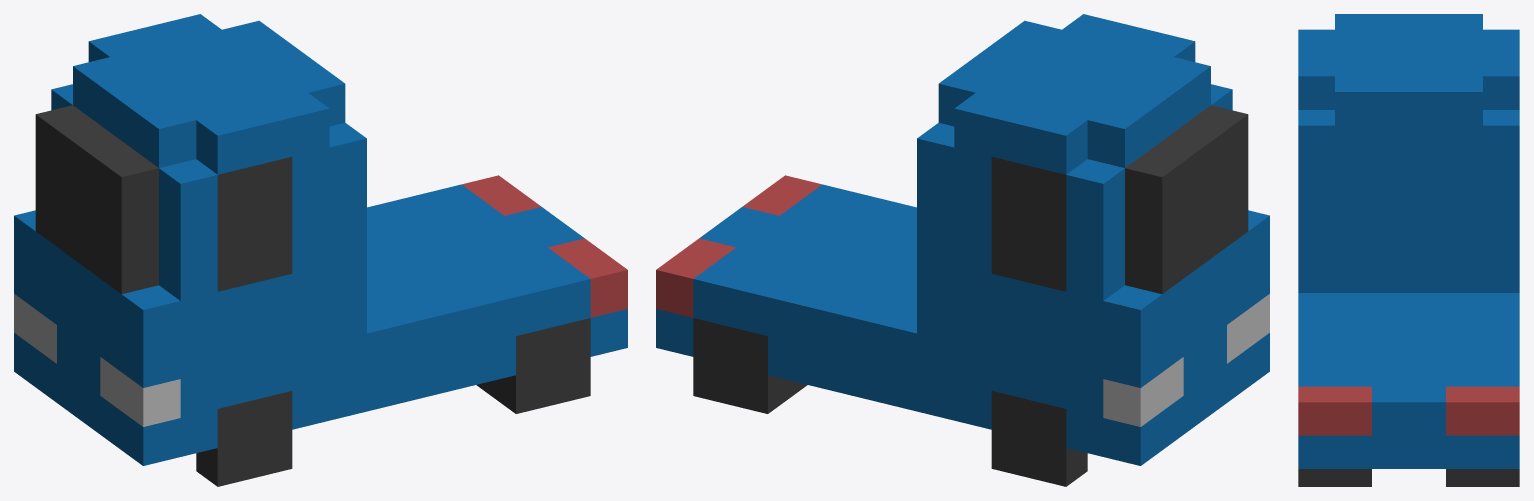
The model's file is truck-v2-blue.gltf.
3 views of the same model, side by side, from view 1: azimuth 30°, elevation 25°; view 2: azimuth 150°, elevation 25°; view 3: azimuth 270°, elevation 25° (orthographic). The views are drawn at different scales.
Parts seen in each view (by area): view 1: model, wheels; view 2: model, wheels; view 3: model, wheels.
Boxes of the visible parts, bbox=[...] form: model: bbox=[14, 14, 627, 465]; wheels: bbox=[196, 318, 590, 486]; model: bbox=[656, 14, 1269, 465]; wheels: bbox=[693, 318, 1087, 486]; model: bbox=[1298, 14, 1519, 468]; wheels: bbox=[1298, 469, 1519, 486].
Size of the model in its own units: 1.3 by 0.9 by 0.6.
Materials: 2 (2 with a texture image).
